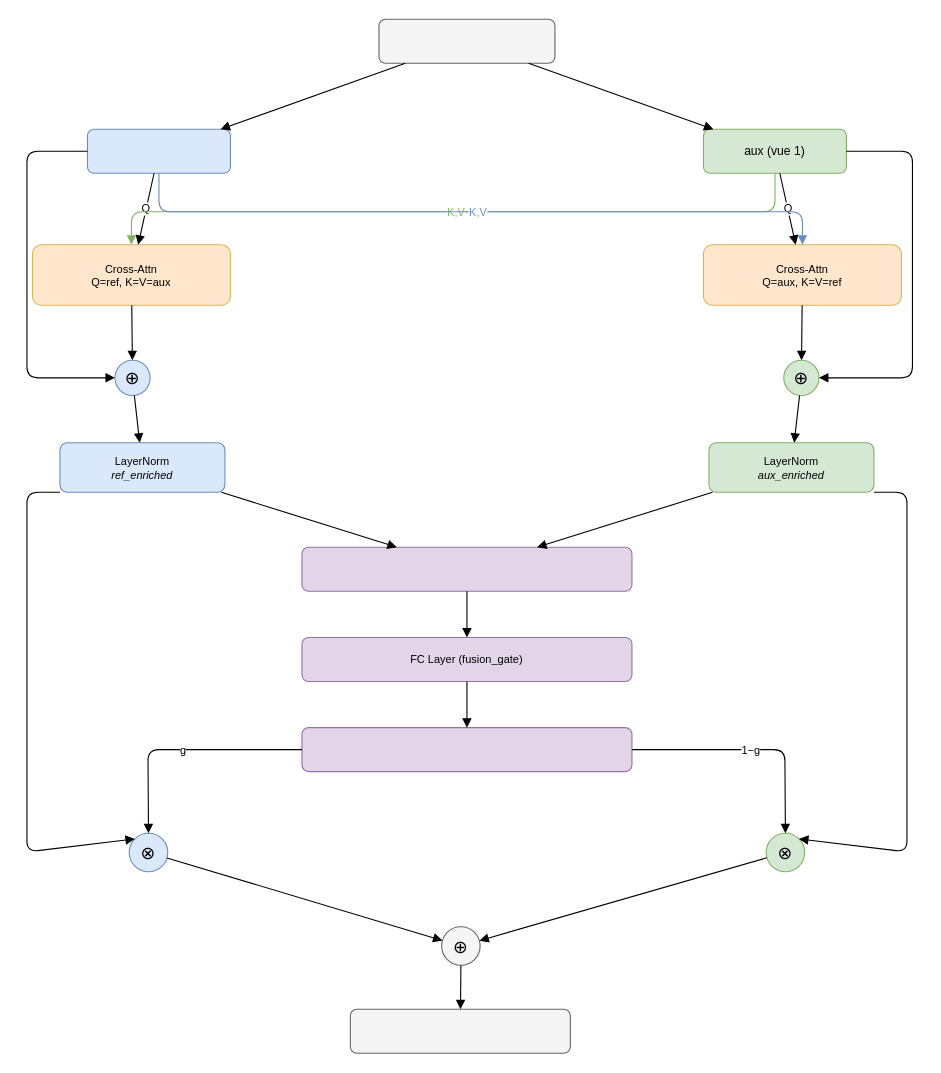
The diagram is 941 pixels wide and 1073 high, and some of its shapes have lost their labels. The shapes that lost their labels are listed below. From the top down, each one's box as (x1, y1, x2, y2) in pixels, then its label:
(378, 18, 555, 63): im_feat (b, v, L, d)
(86, 128, 230, 173): ref (vue 0)
(301, 546, 632, 591): Concat [ref_enriched ; aux_enriched]
(301, 727, 632, 772): Sigmoid → gate g
(349, 1008, 570, 1053): im_feat fusionné
